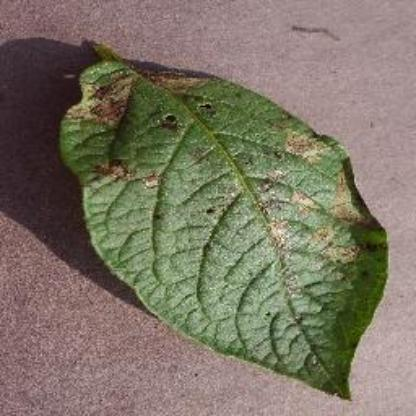Late-Blight: (29, 60, 396, 384)
